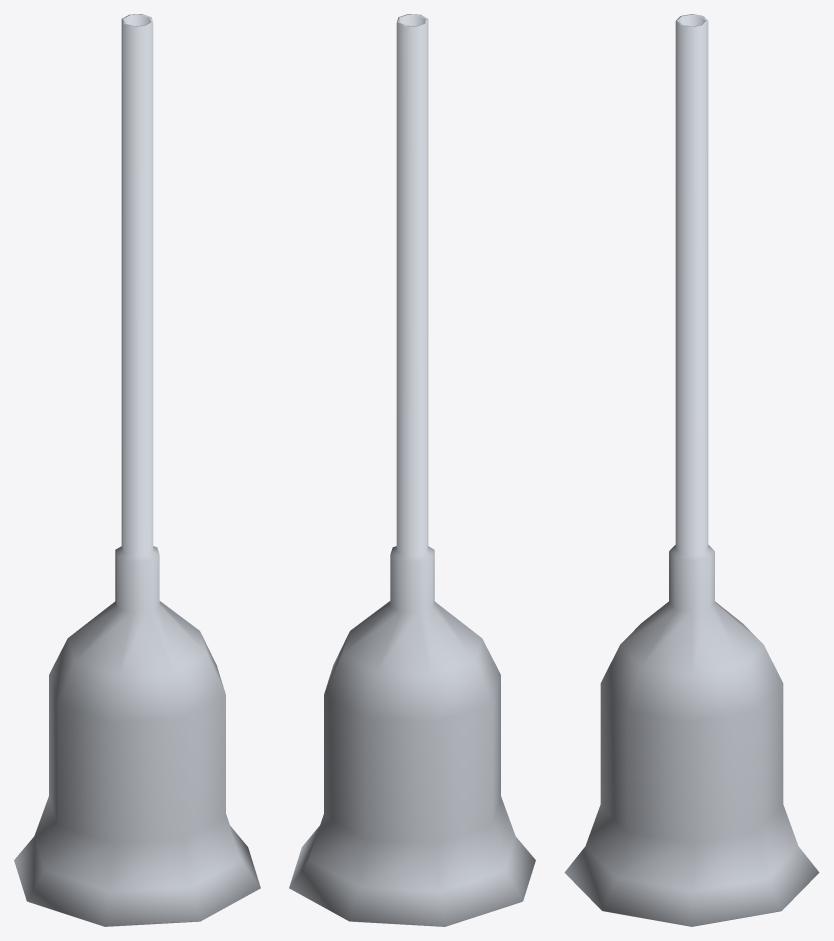
Rendered from funnel_thistle_tube.glb.
3 views of the same model, side by side, from view 1: azimuth 30°, elevation 25°; view 2: azimuth 150°, elevation 25°; view 3: azimuth 270°, elevation 25° (orthographic).
Visible parts, largest first — view 1: funnel_thistle_tube; view 2: funnel_thistle_tube; view 3: funnel_thistle_tube.
Boxes of the visible parts, left/top/right/bottom form: funnel_thistle_tube: left=14, top=14, right=260, bottom=926; funnel_thistle_tube: left=289, top=14, right=535, bottom=926; funnel_thistle_tube: left=564, top=14, right=819, bottom=926.
Bounding box in the file's own units: 9.49 × 35.03 × 9.49.
1 material, 1 textured.
